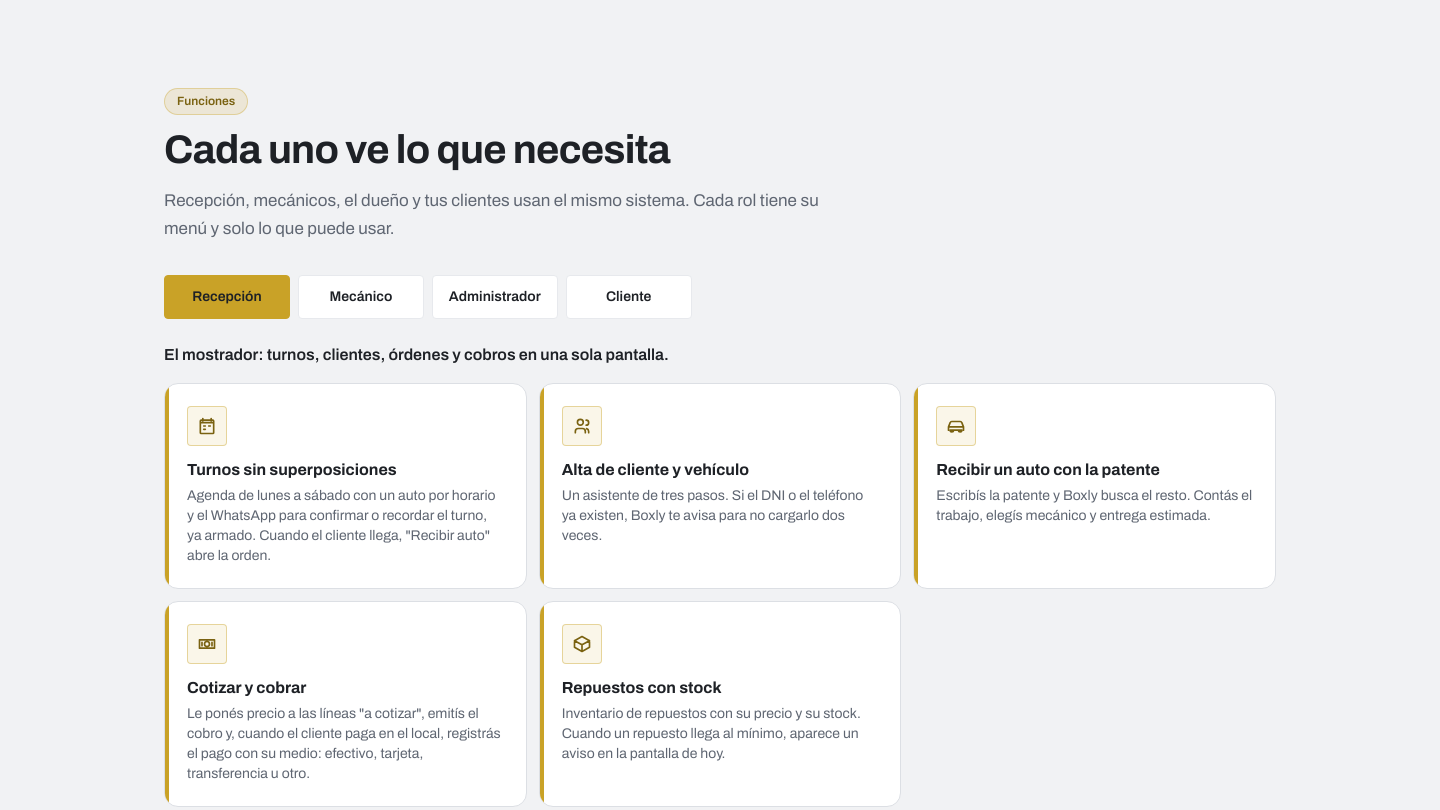
Test: Funciones por rol › el administrador remite a Seguridad en vez de repetir respaldo, auditoría y soporte
Click the tab "Administrador".
click(495, 297)  # box [432,275,558,319]
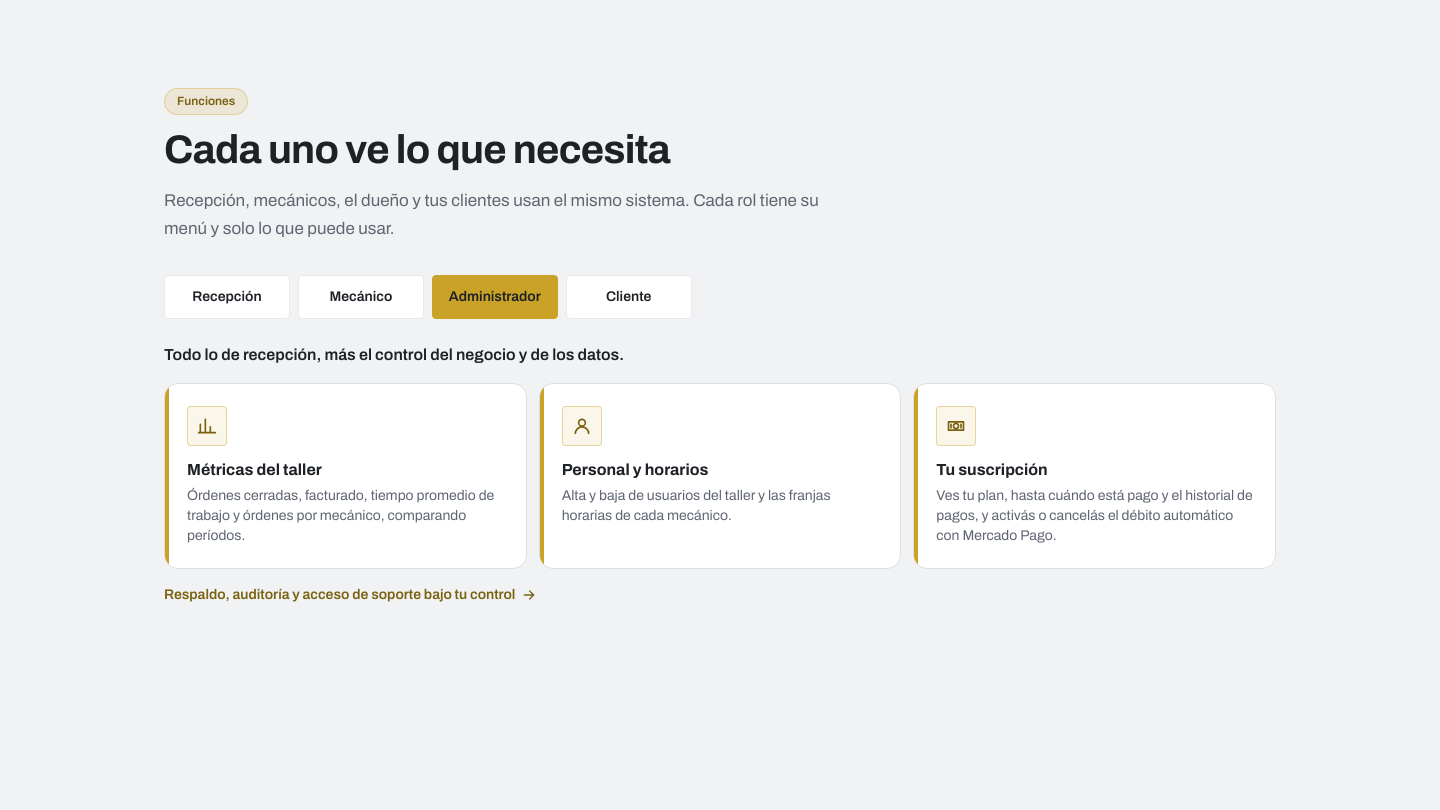
Check: the number of panels is 1, box [164,343,1276,606]
Check: the headings read "Métricas del taller", "Personal y horarios", "Tu suscripción", in this order, box [187,461,322,478]; [562,461,708,478]; [936,461,1048,478]
